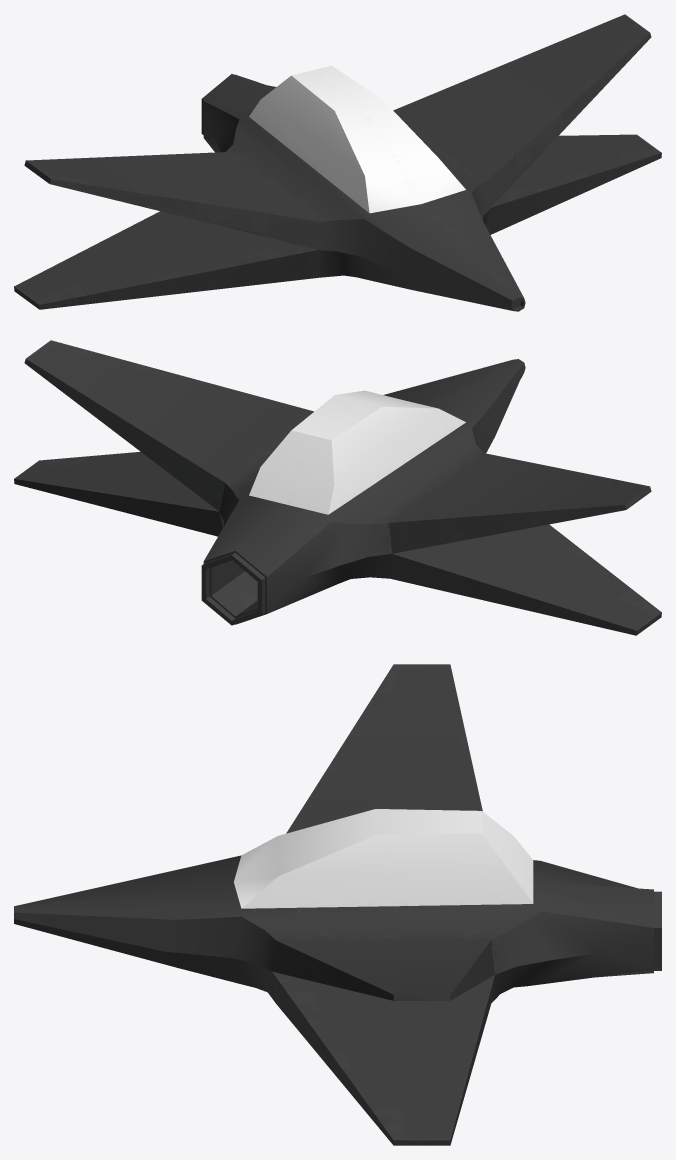
File: Ship.glb
3 views of the same model, one above another, from view 1: azimuth 30°, elevation 25°; view 2: azimuth 150°, elevation 25°; view 3: azimuth 270°, elevation 25° (orthographic). The views are drawn at different scales.
Visible parts, largest first — view 1: body; view 2: body; view 3: body.
Boxes of the visible parts, x1=… form: body: x1=14, y1=14, x2=661, y2=311; body: x1=14, y1=340, x2=661, y2=635; body: x1=14, y1=664, x2=661, y2=1145.
Size of the model in its own units: 2.99 by 0.6173 by 2.38.
1 material, 1 textured.
